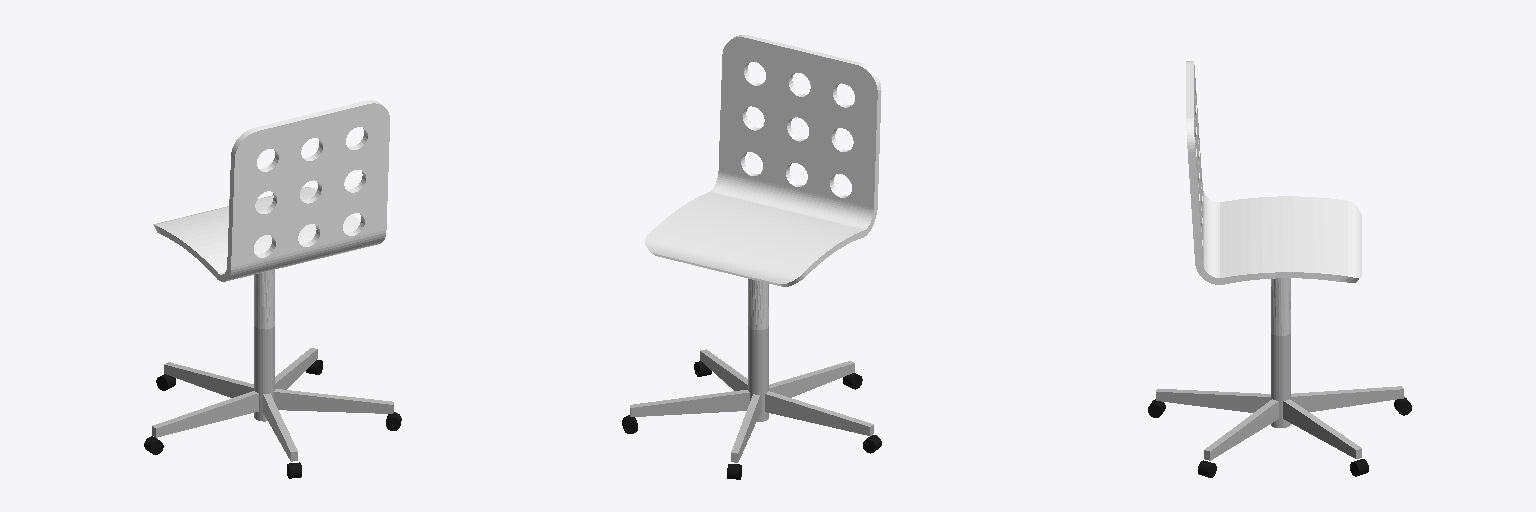
3 views of the same model, side by side, from view 1: azimuth 30°, elevation 25°; view 2: azimuth 150°, elevation 25°; view 3: azimuth 270°, elevation 25° (orthographic).
Visible parts, largest first — view 1: Mesh1 Group2 Group1 Model, Mesh12 Group3 ske3F1 Group1 Model, Mesh5 Group5 Group3 ske3F1 Group1 Model, Mesh7 Group6 Group3 ske3F1 Group1 Model, Mesh3 Group4 Group3 ske3F1 Group1 Model, Mesh9 Group7 Group3 ske3F1 Group1 Model, Mesh11 Group8 Group3 ske3F1 Group1 Model; view 2: Mesh1 Group2 Group1 Model, Mesh12 Group3 ske3F1 Group1 Model, Mesh11 Group8 Group3 ske3F1 Group1 Model, Mesh7 Group6 Group3 ske3F1 Group1 Model, Mesh9 Group7 Group3 ske3F1 Group1 Model, Mesh5 Group5 Group3 ske3F1 Group1 Model, Mesh3 Group4 Group3 ske3F1 Group1 Model; view 3: Mesh1 Group2 Group1 Model, Mesh12 Group3 ske3F1 Group1 Model, Mesh9 Group7 Group3 ske3F1 Group1 Model, Mesh3 Group4 Group3 ske3F1 Group1 Model, Mesh11 Group8 Group3 ske3F1 Group1 Model, Mesh5 Group5 Group3 ske3F1 Group1 Model.
Part boxes in pixels (bbox=[...]): Mesh1 Group2 Group1 Model: bbox=[153, 100, 389, 281]; Mesh12 Group3 ske3F1 Group1 Model: bbox=[254, 270, 274, 421]; Mesh5 Group5 Group3 ske3F1 Group1 Model: bbox=[274, 389, 393, 413]; Mesh7 Group6 Group3 ske3F1 Group1 Model: bbox=[152, 391, 258, 437]; Mesh3 Group4 Group3 ske3F1 Group1 Model: bbox=[164, 362, 253, 397]; Mesh9 Group7 Group3 ske3F1 Group1 Model: bbox=[263, 393, 297, 461]; Mesh11 Group8 Group3 ske3F1 Group1 Model: bbox=[275, 348, 317, 389]; Mesh1 Group2 Group1 Model: bbox=[645, 35, 881, 286]; Mesh12 Group3 ske3F1 Group1 Model: bbox=[748, 279, 768, 421]; Mesh11 Group8 Group3 ske3F1 Group1 Model: bbox=[630, 390, 749, 416]; Mesh7 Group6 Group3 ske3F1 Group1 Model: bbox=[765, 391, 873, 435]; Mesh9 Group7 Group3 ske3F1 Group1 Model: bbox=[769, 361, 854, 397]; Mesh5 Group5 Group3 ske3F1 Group1 Model: bbox=[700, 349, 747, 390]; Mesh3 Group4 Group3 ske3F1 Group1 Model: bbox=[731, 394, 760, 462]; Mesh1 Group2 Group1 Model: bbox=[1186, 61, 1361, 284]; Mesh12 Group3 ske3F1 Group1 Model: bbox=[1271, 278, 1290, 427]; Mesh9 Group7 Group3 ske3F1 Group1 Model: bbox=[1156, 389, 1270, 412]; Mesh3 Group4 Group3 ske3F1 Group1 Model: bbox=[1291, 386, 1403, 411]; Mesh11 Group8 Group3 ske3F1 Group1 Model: bbox=[1283, 399, 1361, 458]; Mesh5 Group5 Group3 ske3F1 Group1 Model: bbox=[1204, 399, 1278, 460].
Size of the model in its own units: 0.5281 by 0.7844 by 0.5511.